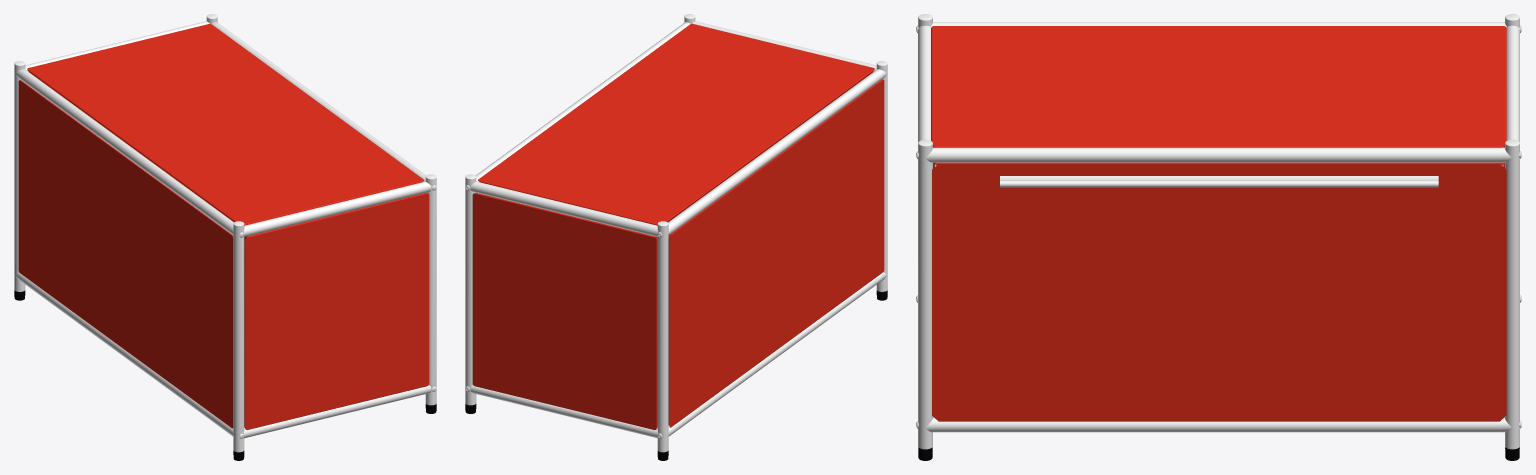
The model's file is 80x40x40-1-4-red_optimized_optimized.glb.
The picture shows the model from 3 angles, left to right: view 1: azimuth 30°, elevation 25°; view 2: azimuth 150°, elevation 25°; view 3: azimuth 270°, elevation 25°; orthographic projection. The views are drawn at different scales.
Parts seen in each view (by area): view 1: 直角鐵板-80x40-5 - 零件, new-上塞-1 - 零件; view 2: 直角鐵板-80x40-5 - 零件, new-上塞-1 - 零件; view 3: 直角鐵板-80x40-5 - 零件, new-上塞-1 - 零件.
Part boxes in pixels (x1=…): 直角鐵板-80x40-5 - 零件: x1=18, y1=23, x2=429, y2=429; new-上塞-1 - 零件: x1=14, y1=14, x2=436, y2=452; 直角鐵板-80x40-5 - 零件: x1=472, y1=23, x2=884, y2=429; new-上塞-1 - 零件: x1=465, y1=14, x2=887, y2=452; 直角鐵板-80x40-5 - 零件: x1=931, y1=26, x2=1506, y2=421; new-上塞-1 - 零件: x1=916, y1=14, x2=1521, y2=449.
Size of the model in its own units: 0.4198 by 0.4453 by 0.7732.
